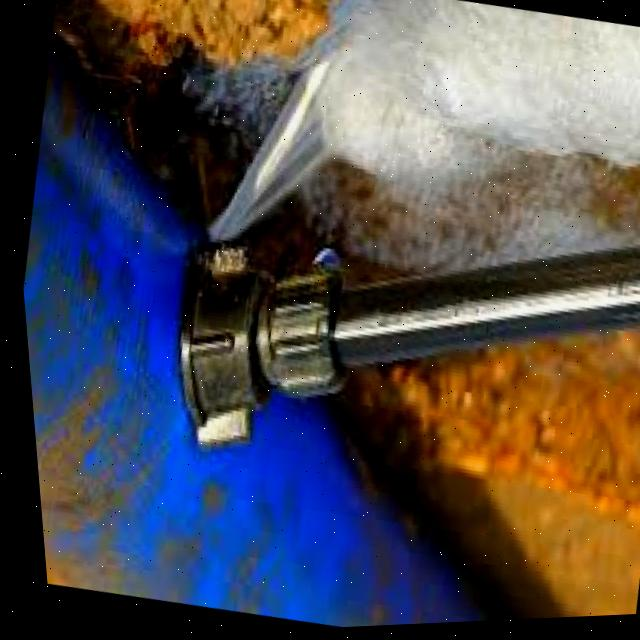corrosion: (128, 124, 281, 282)
